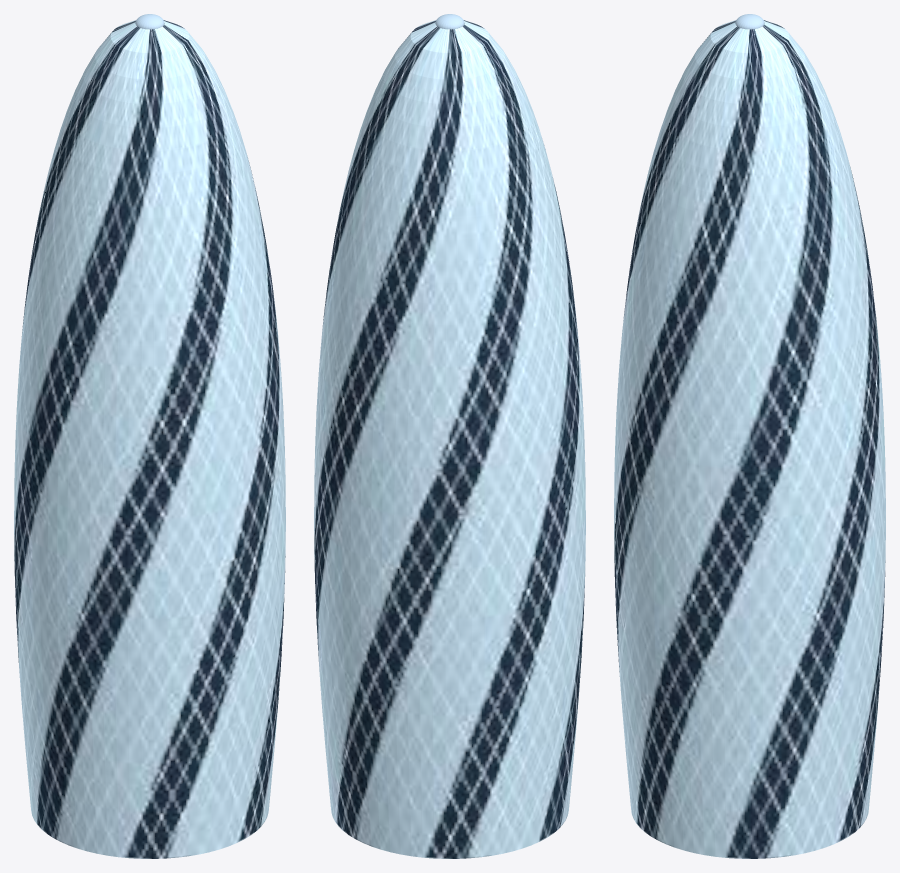
The model's file is gherkin.glb.
The picture shows the model from 3 angles, left to right: view 1: azimuth 30°, elevation 25°; view 2: azimuth 150°, elevation 25°; view 3: azimuth 270°, elevation 25°; orthographic projection.
Visible parts, largest first — view 1: Body; view 2: Body; view 3: Body.
Part boxes in pixels (bbox=[...]): Body: bbox=[14, 20, 285, 858]; Body: bbox=[314, 20, 585, 858]; Body: bbox=[614, 20, 885, 858].
Size of the model in its own units: 55.99 by 180 by 55.99.
2 materials, 1 textured.
